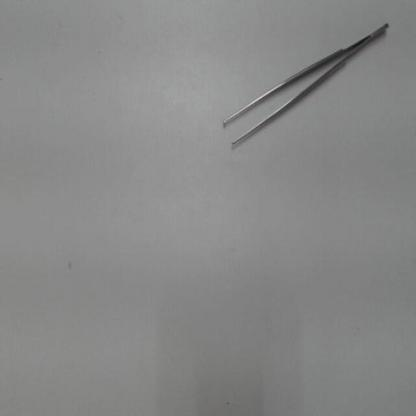Gillies Toothed Dissector: (210, 15, 398, 162)
